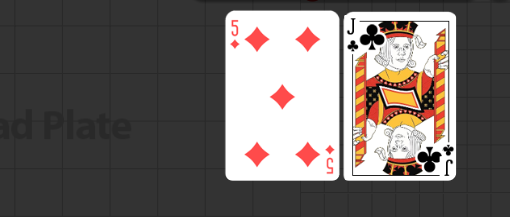5D: (323, 142, 335, 174)
JC: (441, 142, 455, 177)
